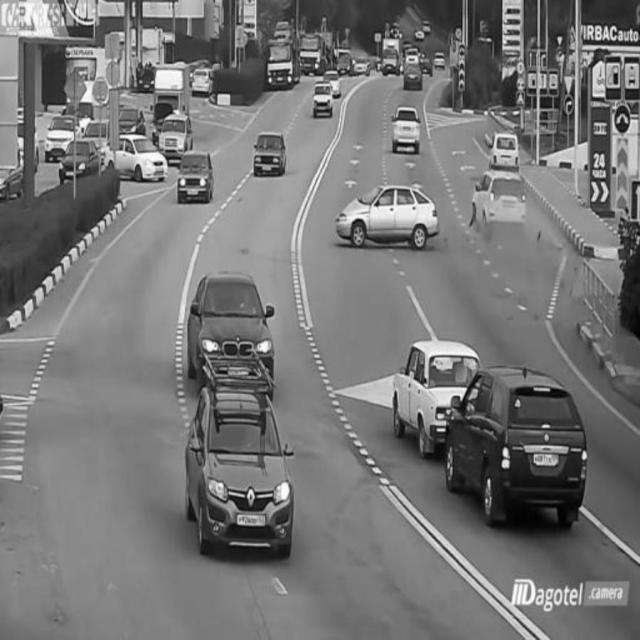vehicle: (191, 350, 301, 565), (444, 368, 590, 528), (188, 270, 280, 378), (395, 330, 465, 452), (335, 184, 443, 245), (471, 170, 527, 238), (106, 129, 170, 183), (53, 135, 105, 187), (176, 149, 217, 205), (43, 111, 80, 166), (157, 102, 192, 156), (295, 28, 329, 83), (251, 127, 287, 175), (267, 33, 297, 88), (392, 101, 422, 151), (484, 124, 519, 166), (311, 77, 335, 119), (377, 34, 402, 74), (401, 53, 425, 93), (192, 55, 214, 97)
